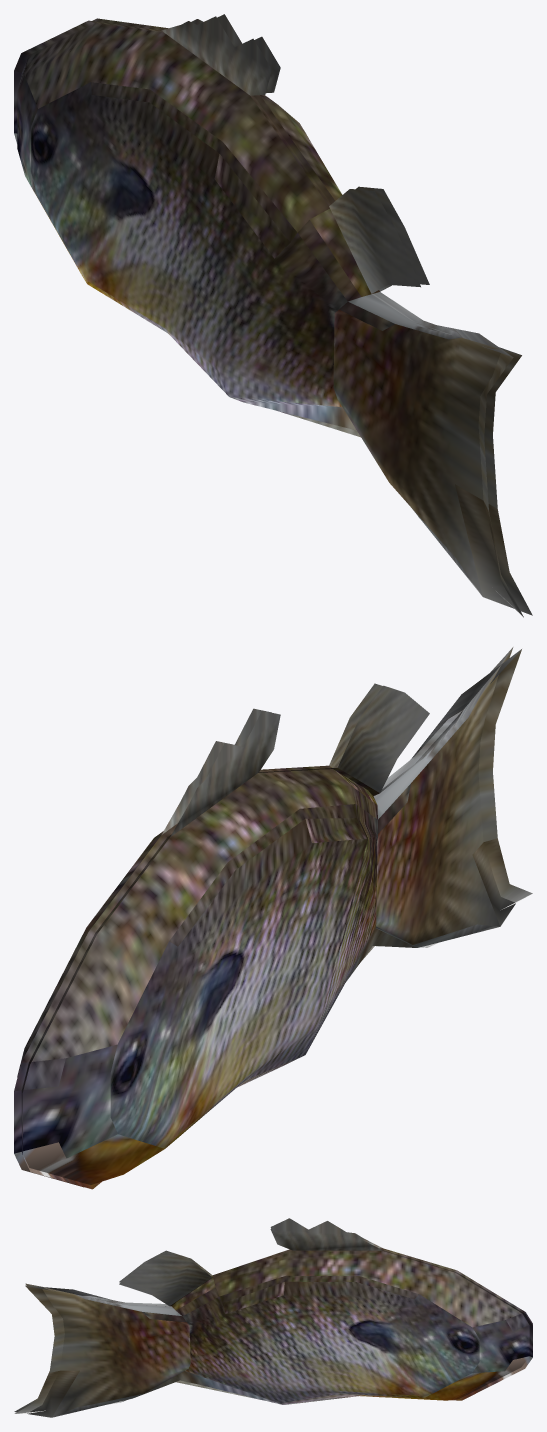
Rendered from FISH03.glb.
3 views of the same model, one above another, from view 1: azimuth 30°, elevation 25°; view 2: azimuth 150°, elevation 25°; view 3: azimuth 270°, elevation 25° (orthographic). The views are drawn at different scales.
Parts seen in each view (by area): view 1: FISH03; view 2: FISH03; view 3: FISH03.
Part boxes in pixels (<box>): FISH03: <box>14,14,532,617</box>; FISH03: <box>14,647,532,1189</box>; FISH03: <box>14,1218,532,1417</box>.
Bounding box in the file's own units: 0.1068 × 0.3825 × 0.9161.
1 material, 1 textured.
